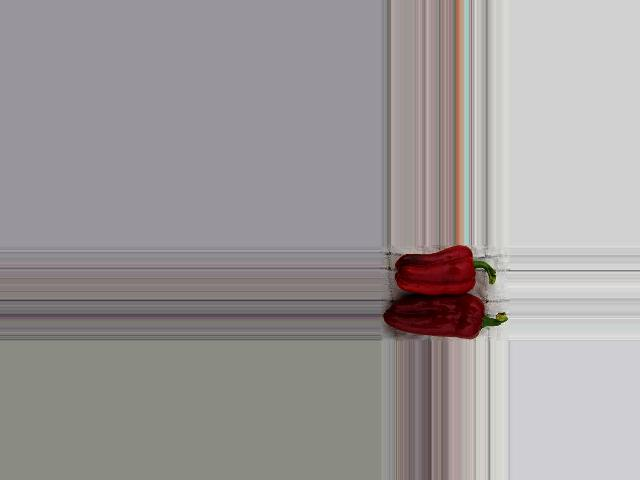bell_pepper: (383, 292, 511, 338)
